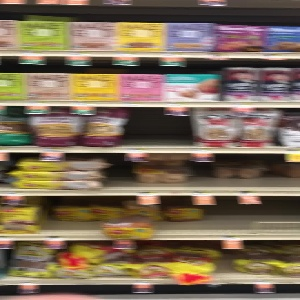void: (155, 189, 300, 236), (196, 156, 300, 196), (127, 103, 190, 152), (38, 198, 102, 237)
